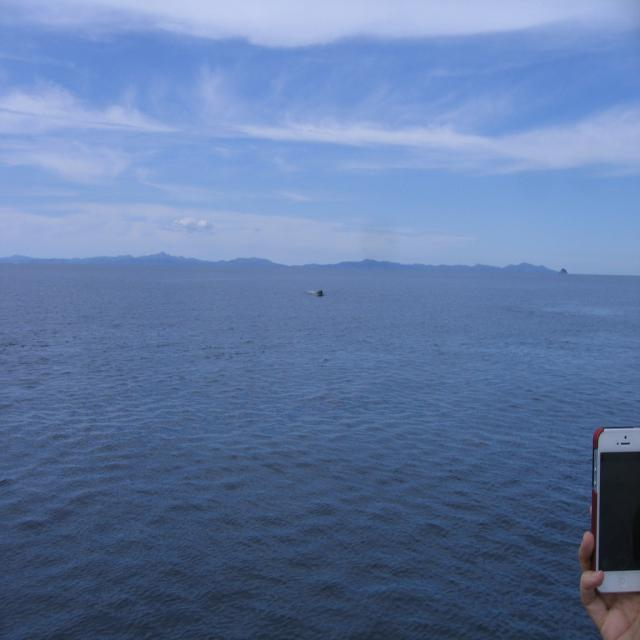Mobile-phone: (584, 424, 639, 614)
